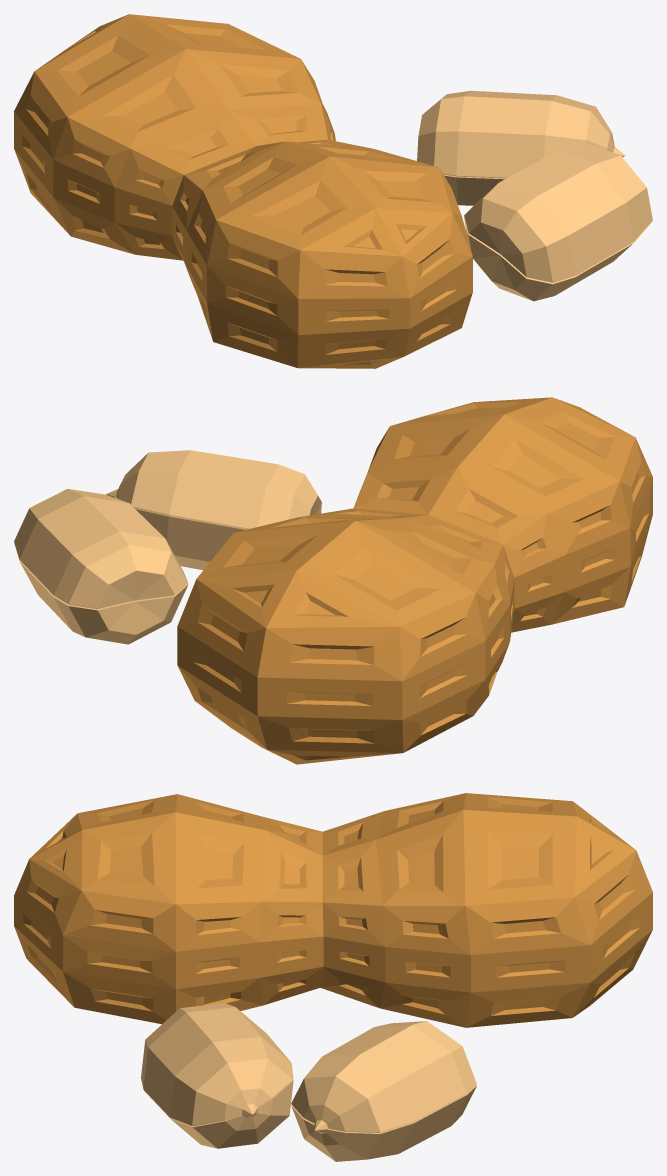
File: Peanut_01.obj
3 views of the same model, one above another, from view 1: azimuth 30°, elevation 25°; view 2: azimuth 150°, elevation 25°; view 3: azimuth 270°, elevation 25° (orthographic). The views are drawn at different scales.
Parts seen in each view (by area): view 1: Circle.004_Circle.013; view 2: Circle.004_Circle.013; view 3: Circle.004_Circle.013.
Part boxes in pixels (x1=…): Circle.004_Circle.013: x1=14, y1=14, x2=652, y2=368; Circle.004_Circle.013: x1=14, y1=397, x2=652, y2=764; Circle.004_Circle.013: x1=14, y1=793, x2=652, y2=1161.
Bounding box in the file's own units: 16.27 × 6.13 × 17.97.
